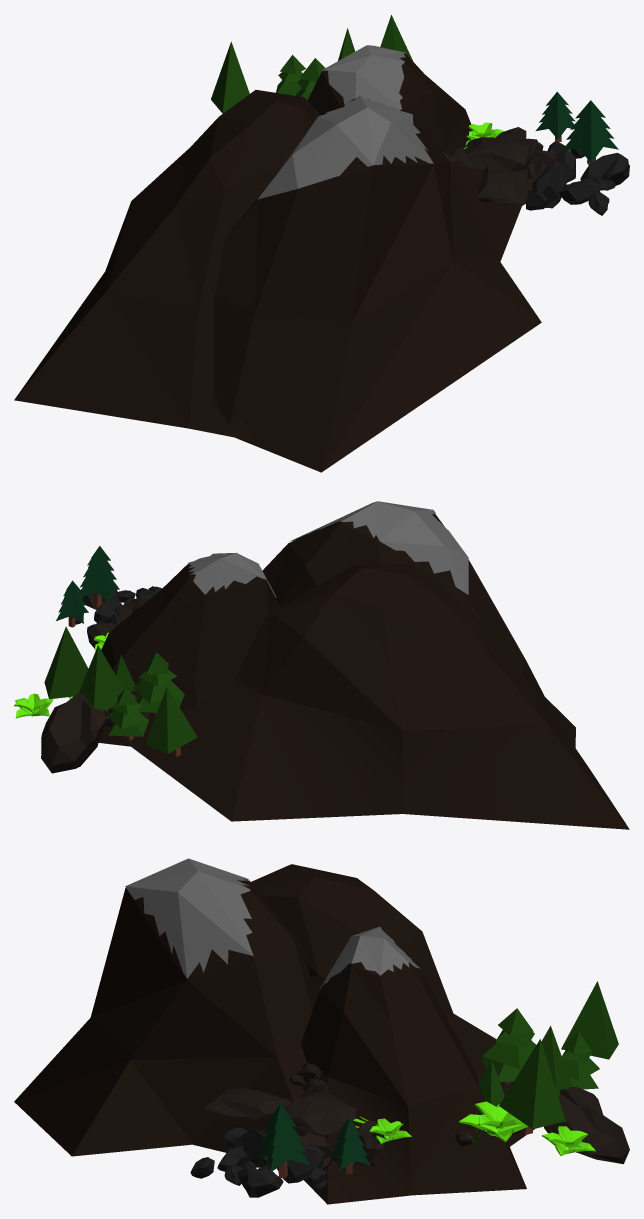
Rendered from Mountain.fbx.
The picture shows the model from 3 angles, top to bottom: view 1: azimuth 30°, elevation 25°; view 2: azimuth 150°, elevation 25°; view 3: azimuth 270°, elevation 25°; orthographic projection. The views are drawn at different scales.
Visible parts, largest first — view 1: Mountain; view 2: Mountain; view 3: Mountain.
Part boxes in pixels (bbox=[...]): Mountain: bbox=[14, 15, 629, 472]; Mountain: bbox=[14, 501, 629, 829]; Mountain: bbox=[14, 858, 629, 1204].
Size of the model in its own units: 57.31 by 24.85 by 46.2.
